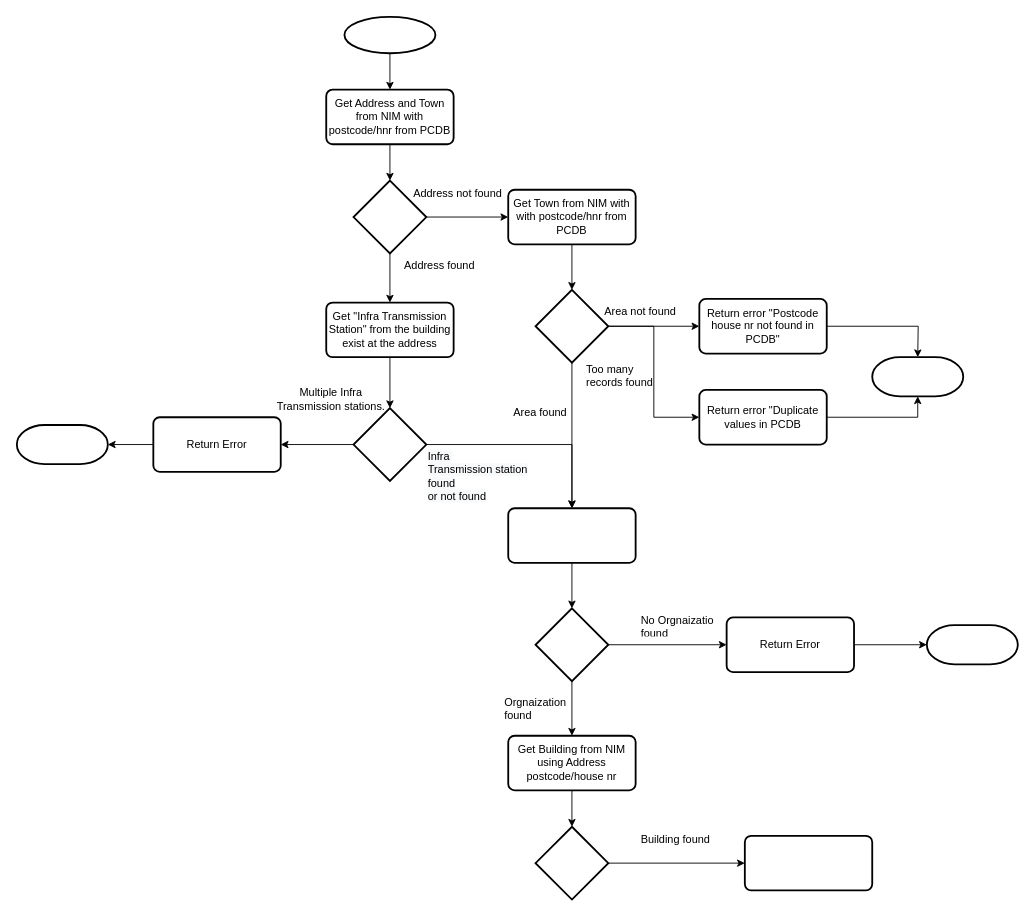
Image size: 1034x915. Some labels were removed from this diagram. Each missing label, with the centre of its shape:
"Check if it is an infra building" belongs at [808,862].
"Get Organization from NIM using Town" belongs at [571,535].
